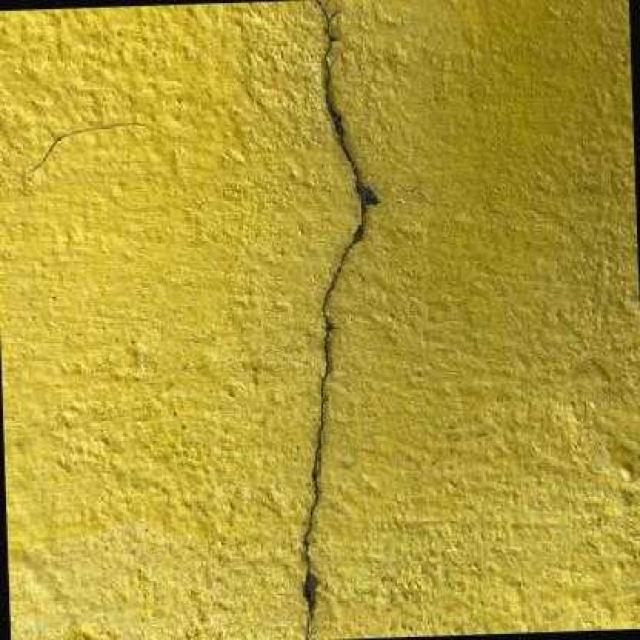D00: (304, 1, 363, 640)
